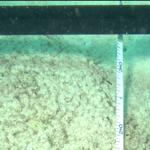dead: (11, 37, 107, 145)
